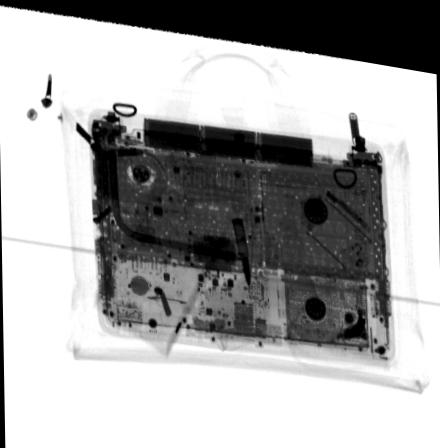Bullet: (229, 206, 250, 280)
